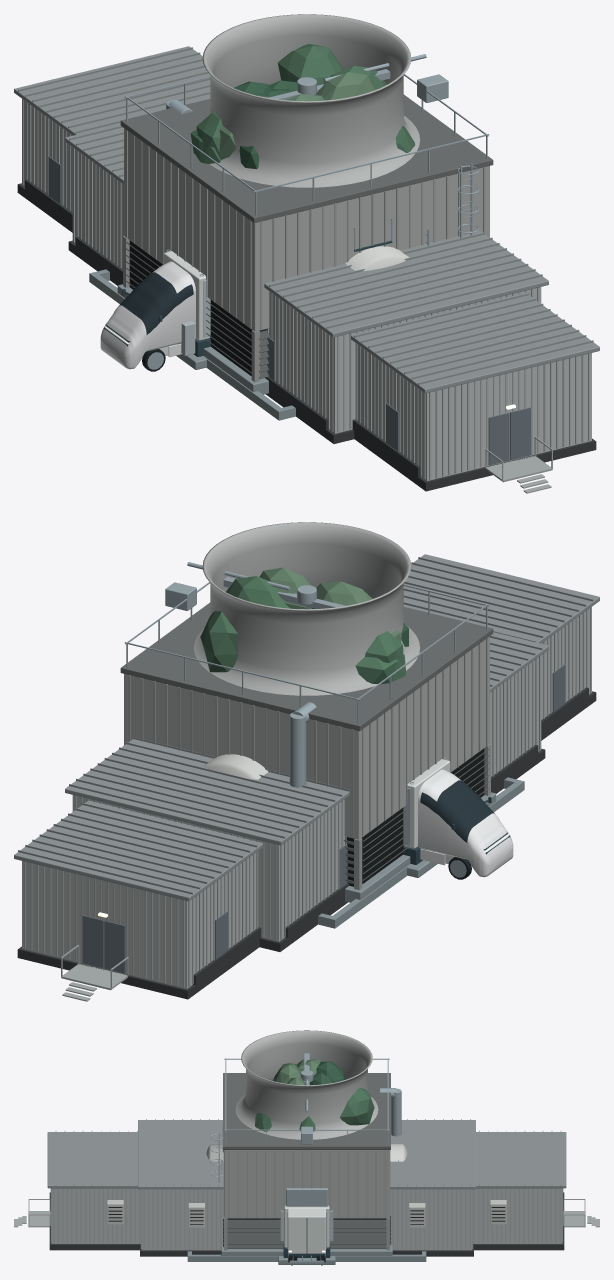
Rendered from campus-catalog.glb.
3 views of the same model, one above another, from view 1: azimuth 30°, elevation 25°; view 2: azimuth 150°, elevation 25°; view 3: azimuth 270°, elevation 25° (orthographic). The views are drawn at different scales.
Visible parts, largest first — view 1: TOWER_CELL Tower FRP casing, EHOUSE Prefab standing-seam roof, CTRL_HOUSE Prefab standing-seam roof, Wall panel body, EHOUSE Prefab panel rib, Fan deck.001, Wall panel body.001, TOWER_CELL Tower FRP rib, CTRL_HOUSE Prefab panel rib, TRUCK Semi tractor pearl white paint, TOWER_CELL Mechanical brushed steel, EHOUSE Prefab steel skid (+12 smaller); view 2: TOWER_CELL Tower FRP casing, EHOUSE Prefab standing-seam roof, CTRL_HOUSE Prefab standing-seam roof, Wall panel body, EHOUSE Prefab panel rib, Fan deck.001, Wall panel body.001, TOWER_CELL Tower FRP rib, CTRL_HOUSE Prefab panel rib, TRUCK Semi tractor pearl white paint, TOWER_CELL Mechanical brushed steel, EHOUSE Prefab steel skid (+12 smaller); view 3: TOWER_CELL Tower FRP casing, CTRL_HOUSE Prefab standing-seam roof, EHOUSE Prefab standing-seam roof, Wall panel body.001, Wall panel body, Fan deck.001, EHOUSE Prefab panel rib, CTRL_HOUSE Prefab panel rib, TOWER_CELL Tower inlet louver, TOWER_CELL Tower FRP rib, TOWER_CELL Mechanical brushed steel, Box trailer (+12 smaller).
Boxes of the visible parts, bbox=[...] form: TOWER_CELL Tower FRP casing: bbox=[124, 14, 489, 331]; EHOUSE Prefab standing-seam roof: bbox=[14, 46, 599, 393]; CTRL_HOUSE Prefab standing-seam roof: bbox=[65, 124, 548, 337]; Wall panel body: bbox=[22, 99, 591, 480]; EHOUSE Prefab panel rib: bbox=[22, 99, 589, 493]; Fan deck.001: bbox=[120, 94, 493, 223]; Wall panel body.001: bbox=[72, 147, 541, 433]; TOWER_CELL Tower FRP rib: bbox=[123, 130, 485, 381]; CTRL_HOUSE Prefab panel rib: bbox=[73, 148, 539, 432]; TRUCK Semi tractor pearl white paint: bbox=[100, 261, 196, 369]; TOWER_CELL Mechanical brushed steel: bbox=[124, 54, 489, 238]; EHOUSE Prefab steel skid: bbox=[17, 179, 596, 491]; TOWER_CELL Tower FRP casing: bbox=[124, 522, 489, 839]; EHOUSE Prefab standing-seam roof: bbox=[14, 554, 599, 901]; CTRL_HOUSE Prefab standing-seam roof: bbox=[65, 632, 548, 845]; Wall panel body: bbox=[22, 607, 591, 988]; EHOUSE Prefab panel rib: bbox=[24, 607, 591, 1001]; Fan deck.001: bbox=[120, 602, 493, 731]; Wall panel body.001: bbox=[72, 655, 541, 941]; TOWER_CELL Tower FRP rib: bbox=[128, 638, 490, 889]; CTRL_HOUSE Prefab panel rib: bbox=[74, 656, 540, 940]; TRUCK Semi tractor pearl white paint: bbox=[417, 769, 513, 877]; TOWER_CELL Mechanical brushed steel: bbox=[124, 562, 489, 787]; EHOUSE Prefab steel skid: bbox=[17, 687, 596, 999]; TOWER_CELL Tower FRP casing: bbox=[224, 1030, 389, 1218]; CTRL_HOUSE Prefab standing-seam roof: bbox=[138, 1119, 475, 1189]; EHOUSE Prefab standing-seam roof: bbox=[47, 1130, 566, 1188]; Wall panel body.001: bbox=[141, 1189, 472, 1250]; Wall panel body: bbox=[51, 1188, 562, 1243]; Fan deck.001: bbox=[223, 1073, 390, 1149]; EHOUSE Prefab panel rib: bbox=[14, 1188, 599, 1243]; CTRL_HOUSE Prefab panel rib: bbox=[141, 1189, 472, 1249]; TOWER_CELL Tower inlet louver: bbox=[223, 1216, 390, 1248]; TOWER_CELL Tower FRP rib: bbox=[223, 1150, 390, 1250]; TOWER_CELL Mechanical brushed steel: bbox=[210, 1053, 401, 1182]; Box trailer: bbox=[288, 1208, 325, 1253].
Size of the model in its own units: 16.87 by 12.89 by 39.
